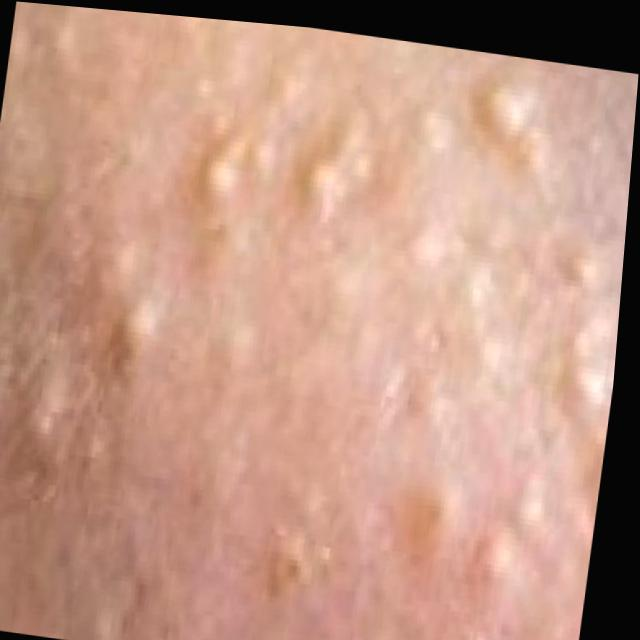whitehead: (0, 1, 639, 640)
